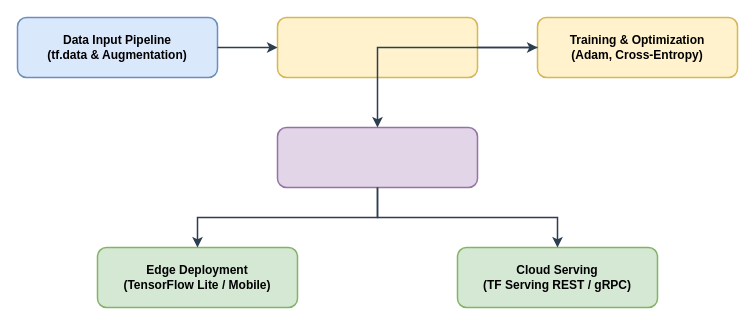
This 756x326 diagram has some shape labels left out. Here are the shapes that lost their labels. From the top down, the centre of each, then its label:
At point 377,47: "Model Architecture & Layers (Keras Functional API)".
At point 377,157: "SavedModel Serialization (Weights & Computation Graph)".
